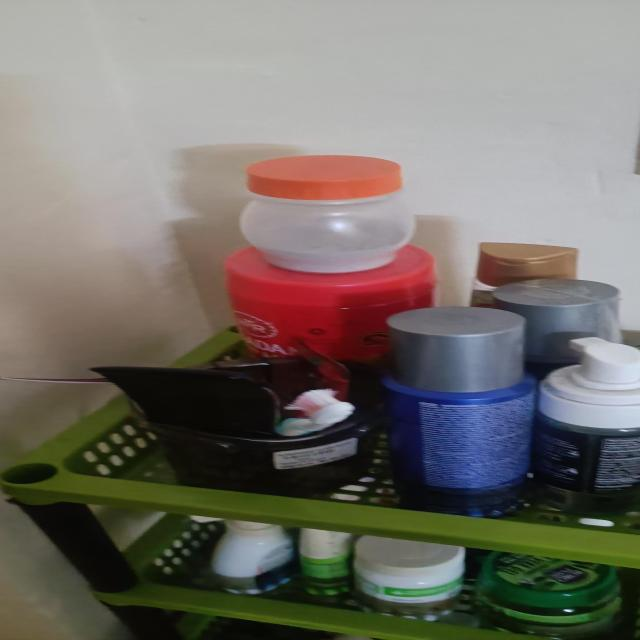divya: (207, 150, 415, 278)
